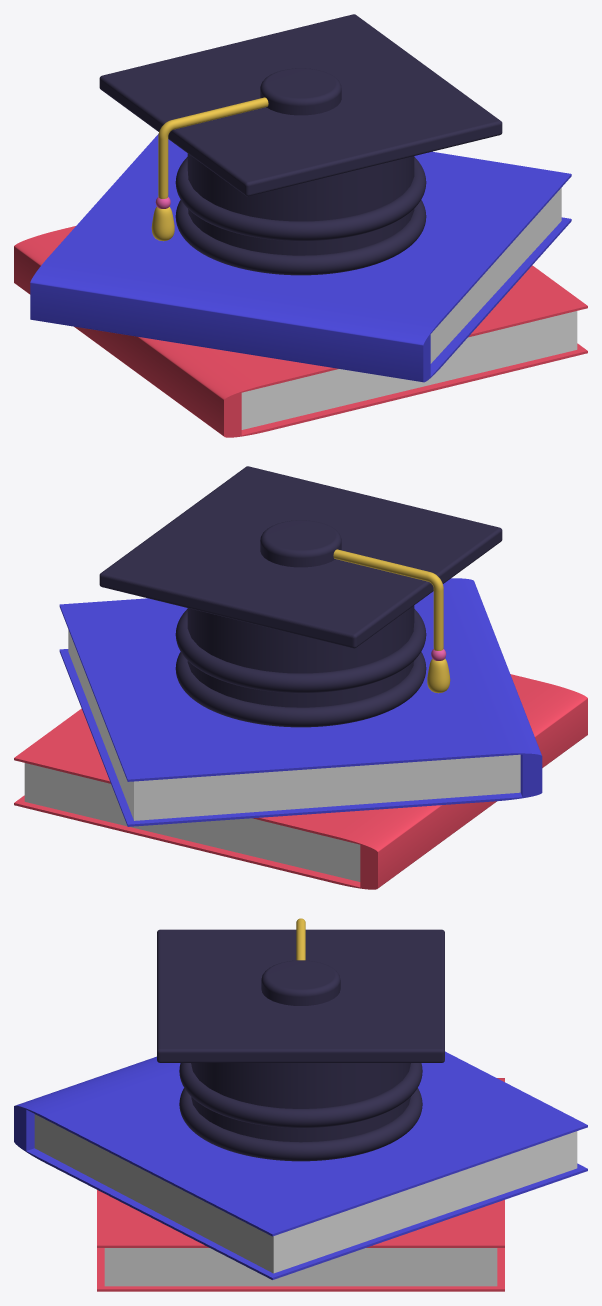
The model's file is graduation hat.fbx.
The picture shows the model from 3 angles, top to bottom: view 1: azimuth 30°, elevation 25°; view 2: azimuth 150°, elevation 25°; view 3: azimuth 270°, elevation 25°; orthographic projection. The views are drawn at different scales.
Parts seen in each view (by area): view 1: Cube.001, Torus, Cube, Sphere; view 2: Cube.001, Torus, Cube, Sphere; view 3: Cube.001, Torus, Cube.
Part boxes in pixels (x1=…): Cube.001: x1=30, y1=134, x2=571, y2=382; Torus: x1=99, y1=14, x2=502, y2=275; Cube: x1=14, y1=226, x2=587, y2=437; Sphere: x1=151, y1=97, x2=268, y2=241; Cube.001: x1=59, y1=578, x2=542, y2=826; Torus: x1=99, y1=466, x2=502, y2=727; Cube: x1=14, y1=674, x2=587, y2=889; Sphere: x1=333, y1=549, x2=450, y2=693; Cube.001: x1=14, y1=1051, x2=587, y2=1279; Torus: x1=157, y1=929, x2=444, y2=1161; Cube: x1=97, y1=1078, x2=504, y2=1291.
Size of the model in its own units: 281 by 125 by 281.
